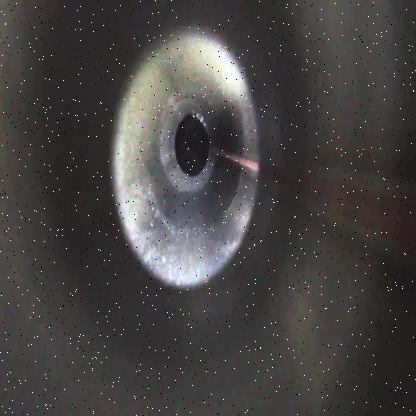NoCrack: (113, 26, 261, 289)
